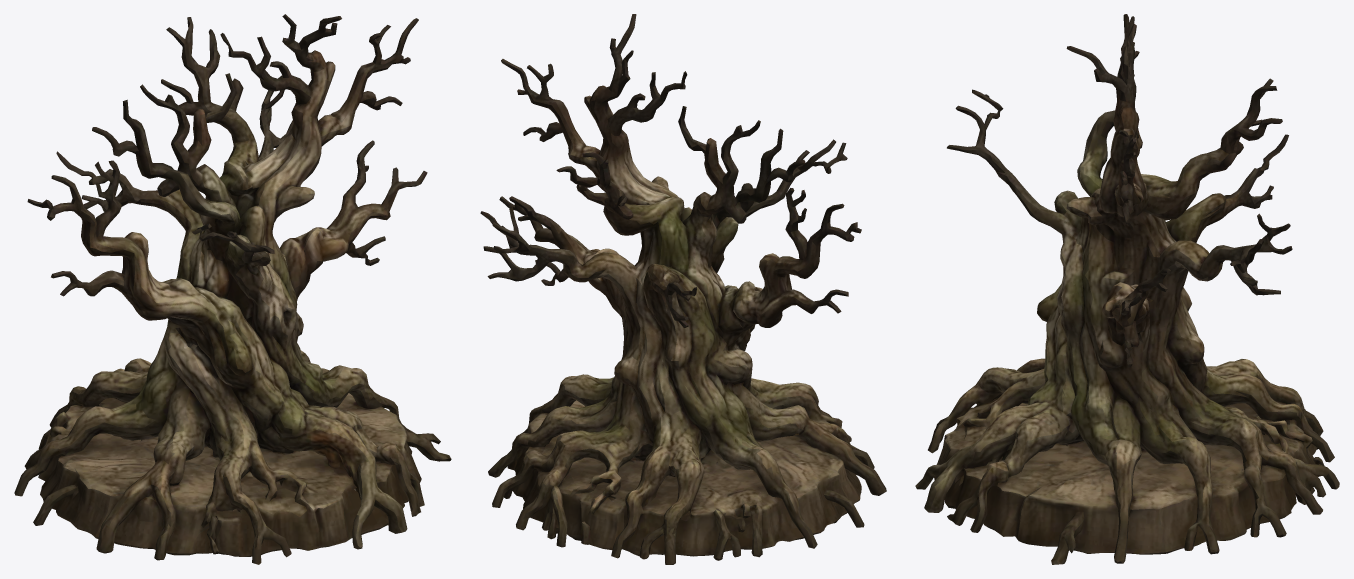
The model's file is env_tree.glb.
The picture shows the model from 3 angles, left to right: view 1: azimuth 30°, elevation 25°; view 2: azimuth 150°, elevation 25°; view 3: azimuth 270°, elevation 25°; orthographic projection. The views are drawn at different scales.
Visible parts, largest first — view 1: world; view 2: world; view 3: world.
Part boxes in pixels (box(x1,y1,x2,y2)): world: box(14, 14, 451, 564); world: box(480, 14, 886, 564); world: box(915, 14, 1339, 564).
Size of the model in its own units: 1.6 by 1.8 by 1.48.
1 material, 1 textured.
